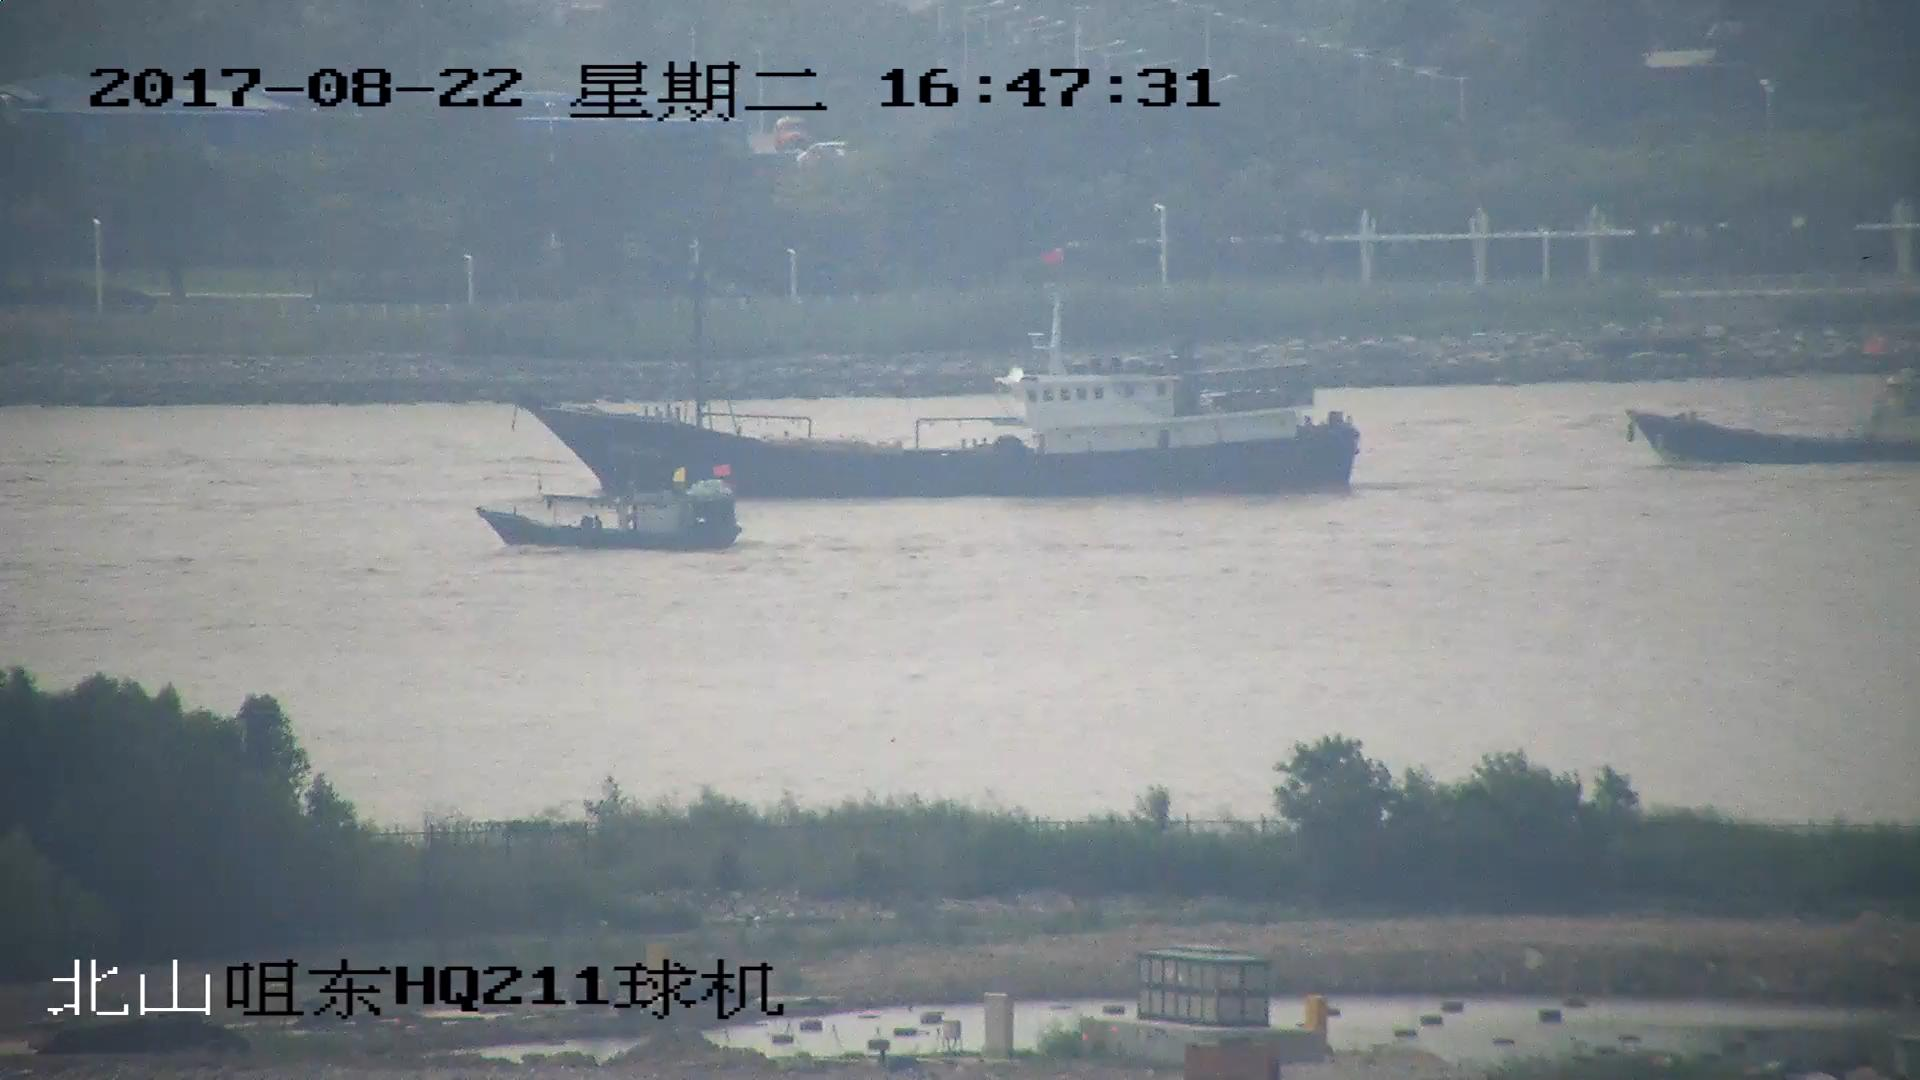fishing boat: (510, 256, 1357, 495), (1629, 339, 1920, 459), (478, 467, 744, 550)
